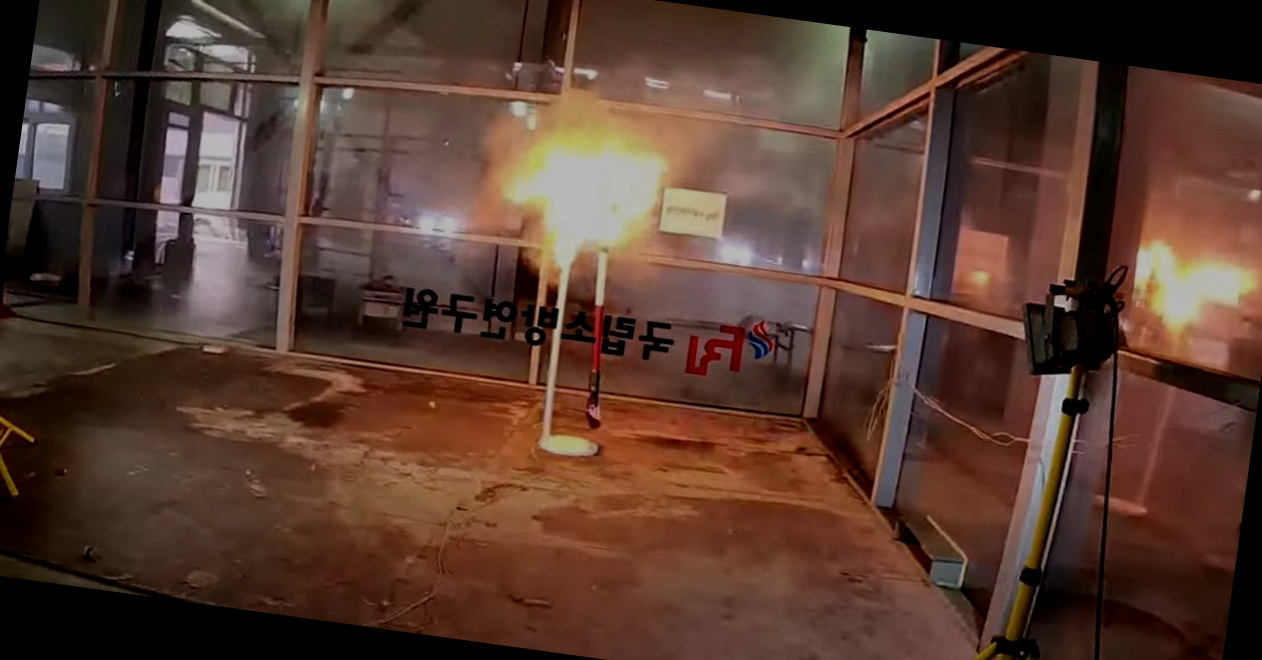fire: (477, 71, 680, 280), (1121, 212, 1262, 361)
